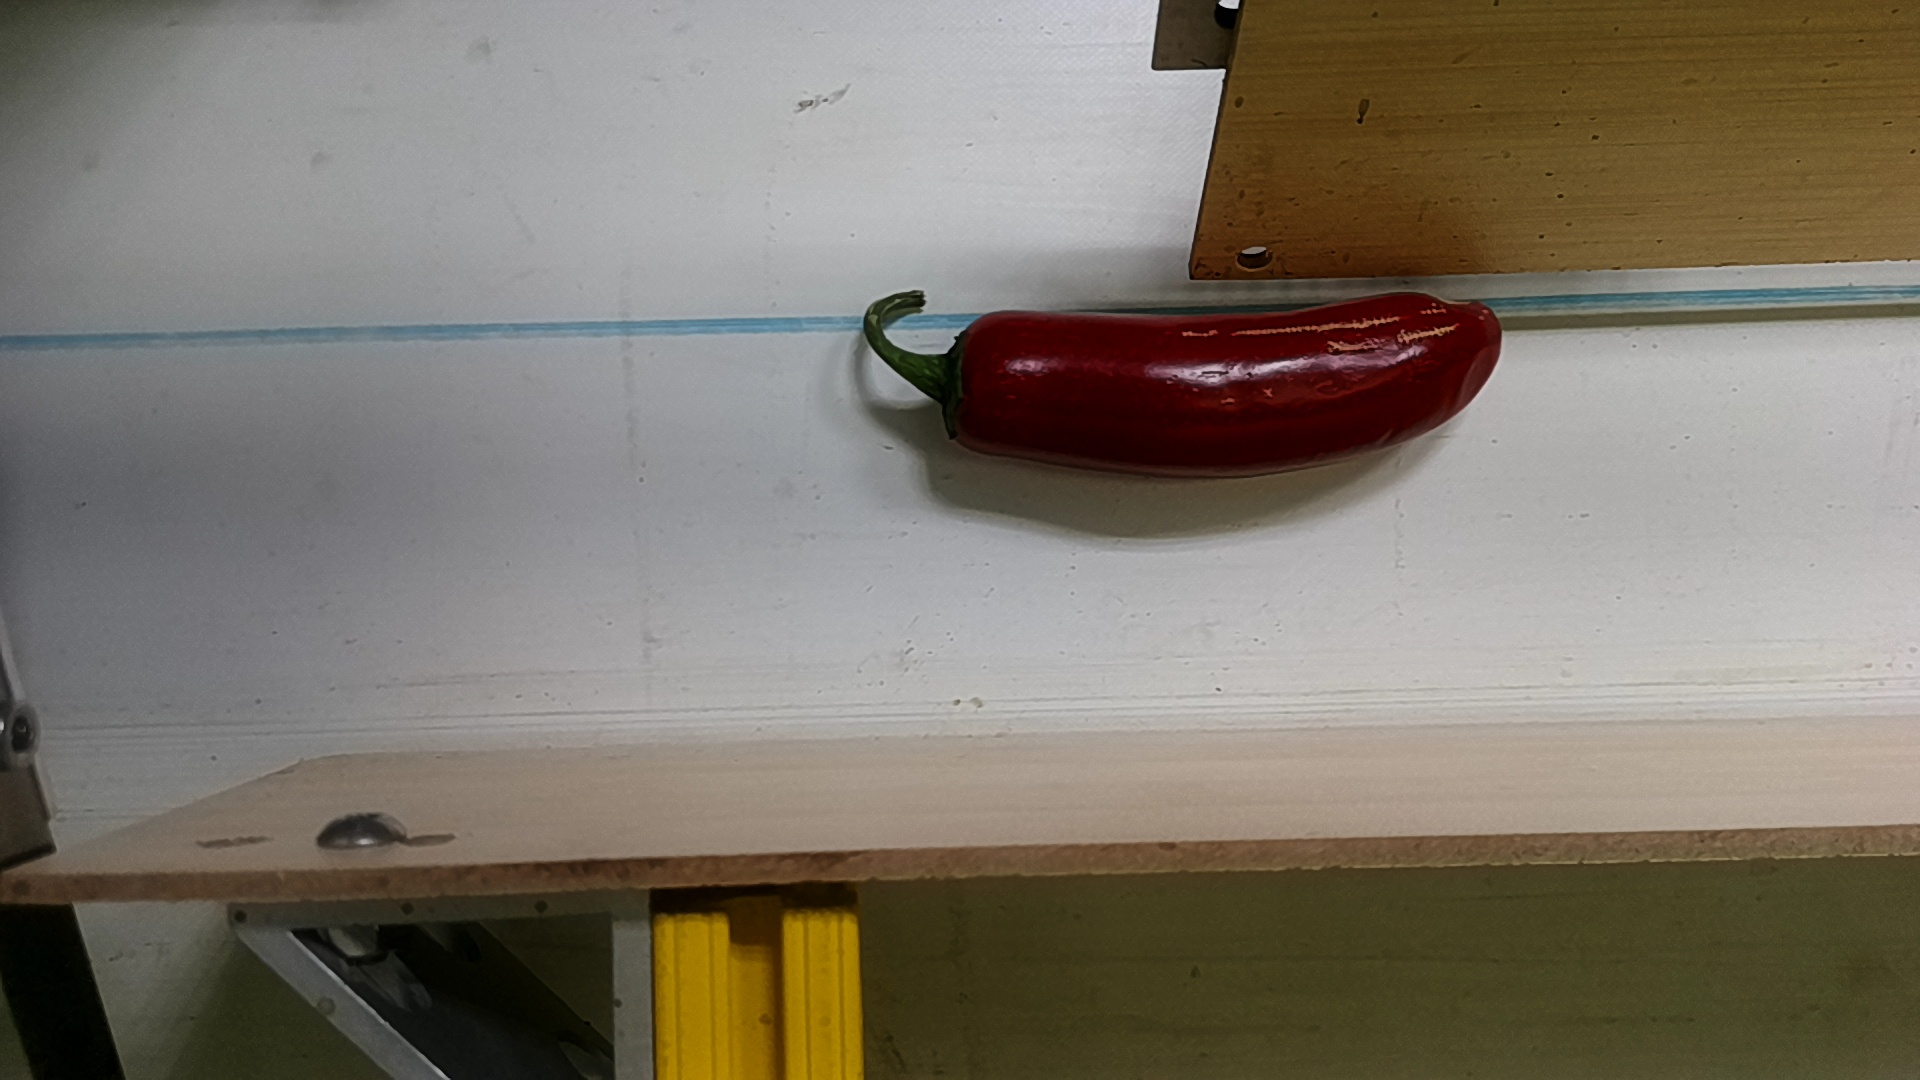Cut Point: (928, 309, 1011, 463)
